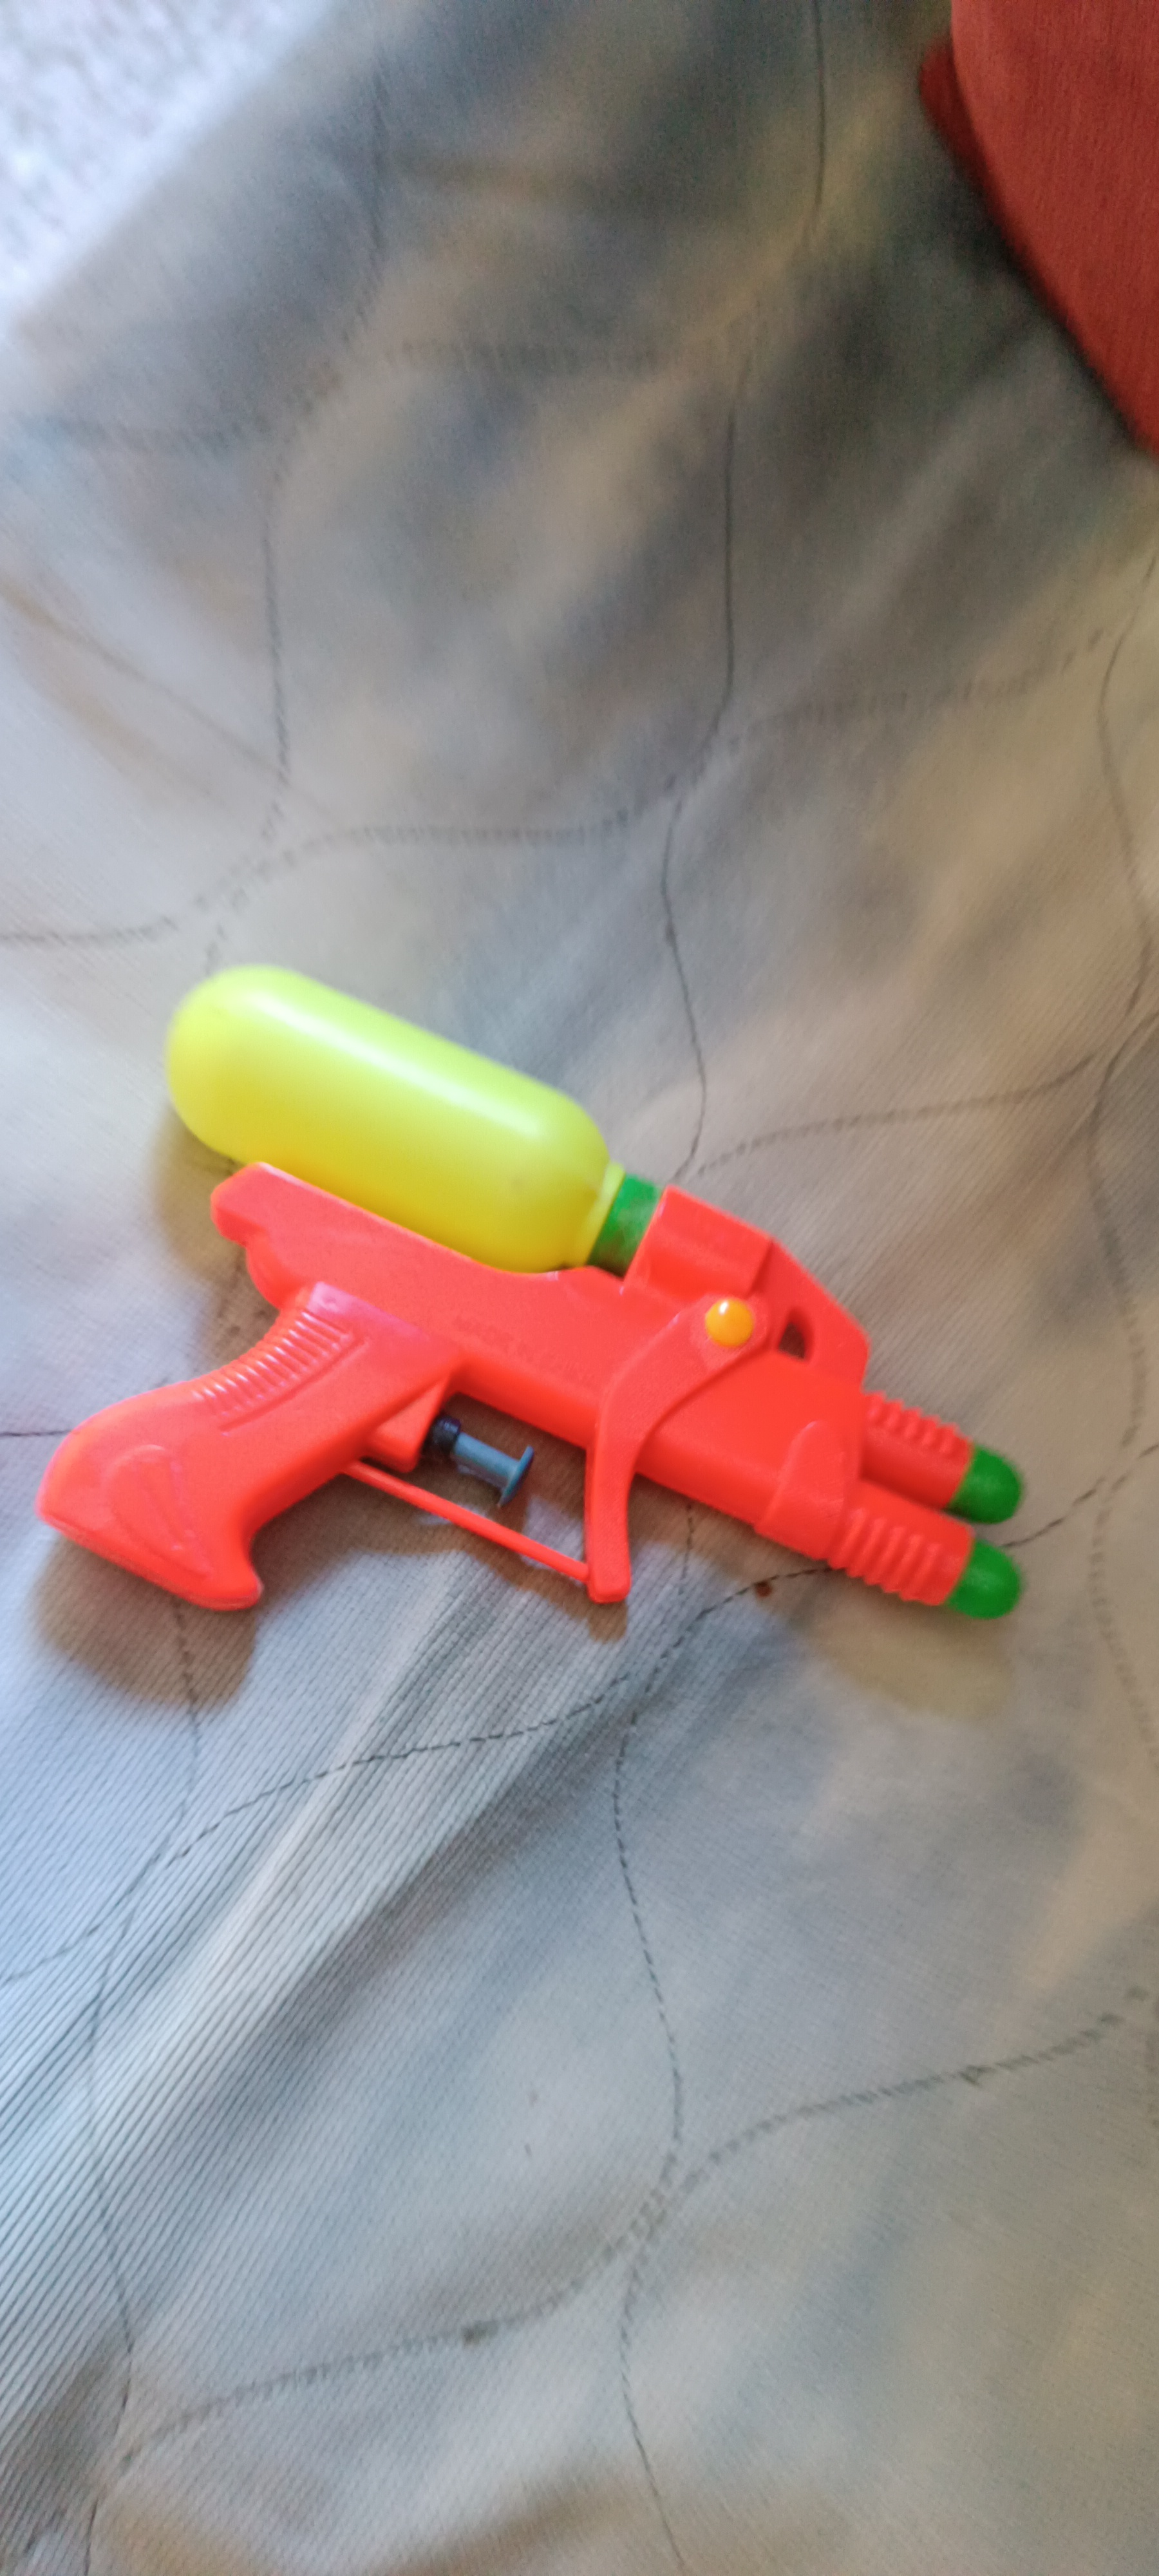Water Gun: (33, 963, 1028, 1625)
